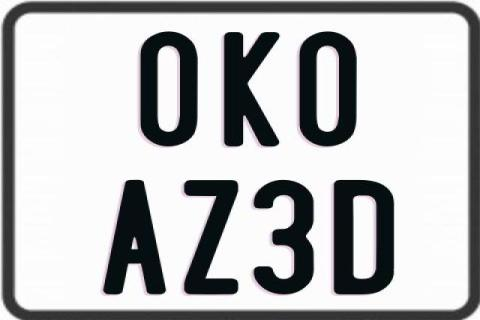0: (254, 180, 320, 299), (137, 32, 201, 152), (298, 29, 362, 147)
A: (100, 178, 167, 294)
D: (331, 178, 395, 296)
K: (221, 32, 281, 147)
Z: (182, 179, 236, 293)
